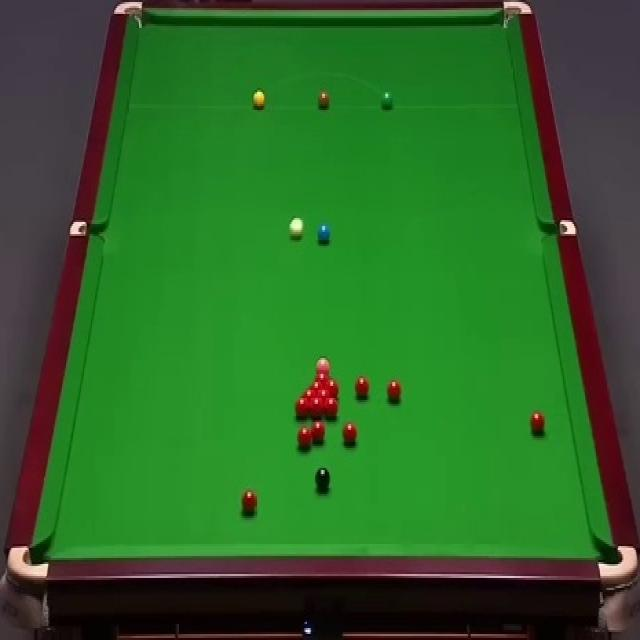black-ball: (315, 466, 330, 492)
blue-ball: (318, 224, 330, 246)
brown-ball: (317, 91, 329, 110)
green-ball: (380, 90, 392, 110)
pink-ball: (316, 358, 331, 372)
red-ball: (242, 489, 258, 514), (308, 397, 324, 420), (324, 396, 338, 421), (354, 377, 370, 398), (531, 411, 545, 433), (343, 423, 357, 445), (298, 428, 312, 449), (296, 398, 310, 419), (388, 380, 400, 403), (315, 372, 329, 384), (325, 381, 339, 393), (318, 390, 332, 397), (306, 389, 317, 397), (313, 382, 326, 388)
white-ball: (289, 216, 304, 240)
yellow-ball: (252, 88, 266, 110)
